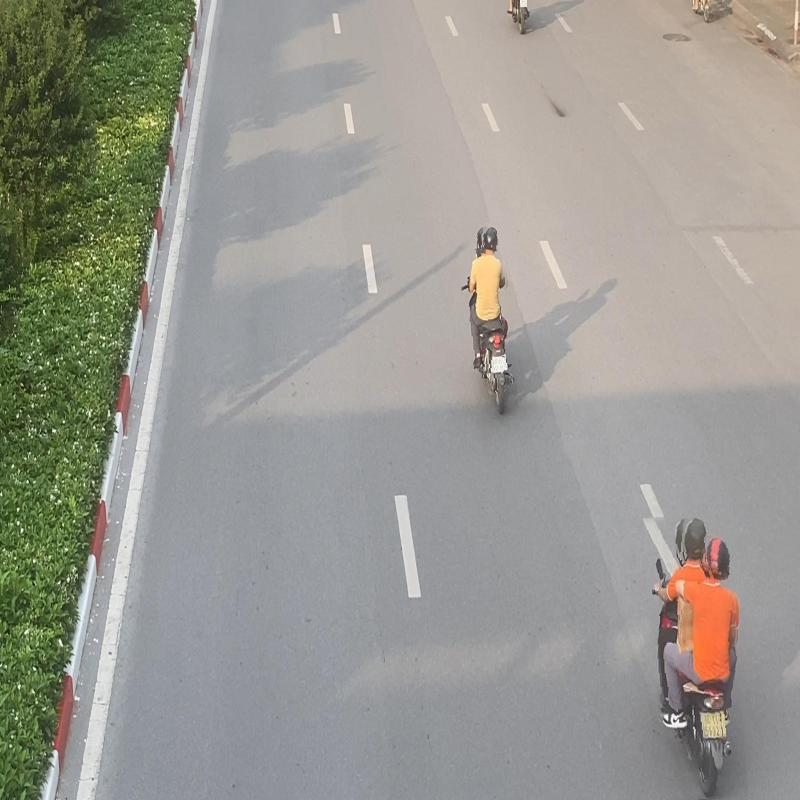helmet: (682, 514, 710, 562), (706, 534, 732, 582), (482, 225, 499, 254)
licenseplate: (700, 710, 723, 740), (490, 354, 505, 374)
motorcyclist: (648, 513, 743, 800), (460, 224, 516, 418)
